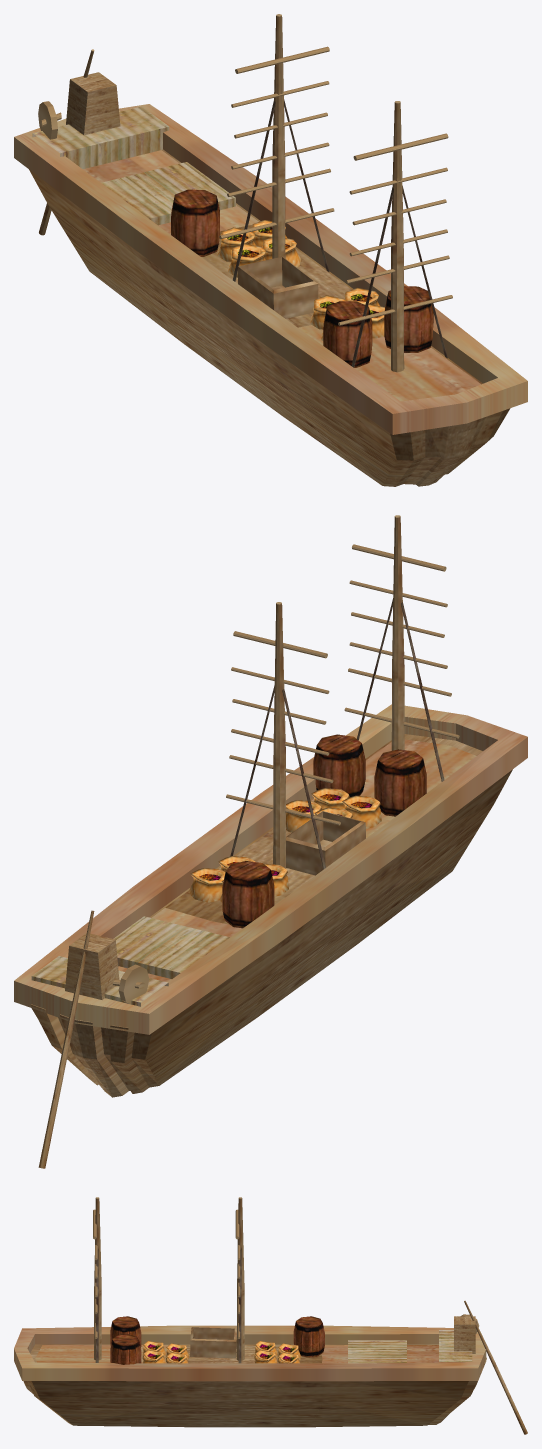
Rendered from yayoi_ship_merc.dae.
3 views of the same model, one above another, from view 1: azimuth 30°, elevation 25°; view 2: azimuth 150°, elevation 25°; view 3: azimuth 270°, elevation 25° (orthographic). The views are drawn at different scales.
Parts seen in each view (by area): view 1: merc_ship.002; view 2: merc_ship.002; view 3: merc_ship.002.
Boxes of the visible parts, x1,y1,x2,y2 form: merc_ship.002: (14, 14, 527, 486); merc_ship.002: (14, 515, 527, 1168); merc_ship.002: (14, 1197, 527, 1434).
Bounding box in the file's own units: 5.7 × 28.9 × 14.67.
Materials: 1 (1 with a texture image).
